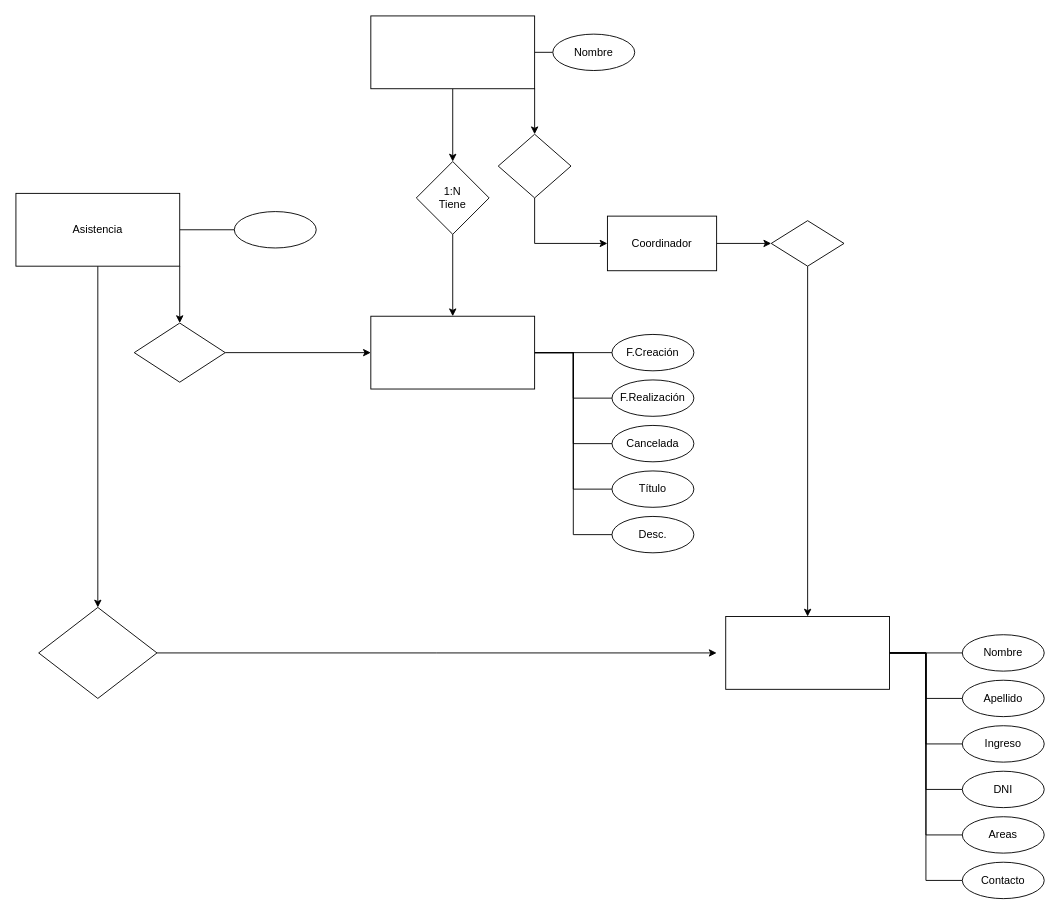
This 1060x915 diagram has some shape labels left out. Each missing label, with the centre of its shape:
"0:1 Es un" goes at point (807, 243).
"1:1 corresponde a un" goes at point (97, 652).
"1:1 es de una" goes at point (179, 352).
"1:1 tiene un" goes at point (534, 165).
"Actividad" goes at point (452, 352).
"Area" goes at point (452, 52).
"Estado" goes at point (274, 229).
"Voluntario" goes at point (807, 652).
